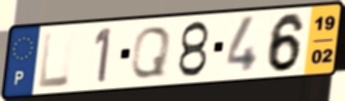1: (91, 26, 112, 86)
4: (224, 14, 260, 78)
6: (264, 11, 308, 74)
8: (176, 19, 211, 79)
L: (37, 29, 72, 90)
Q: (128, 24, 173, 80)
